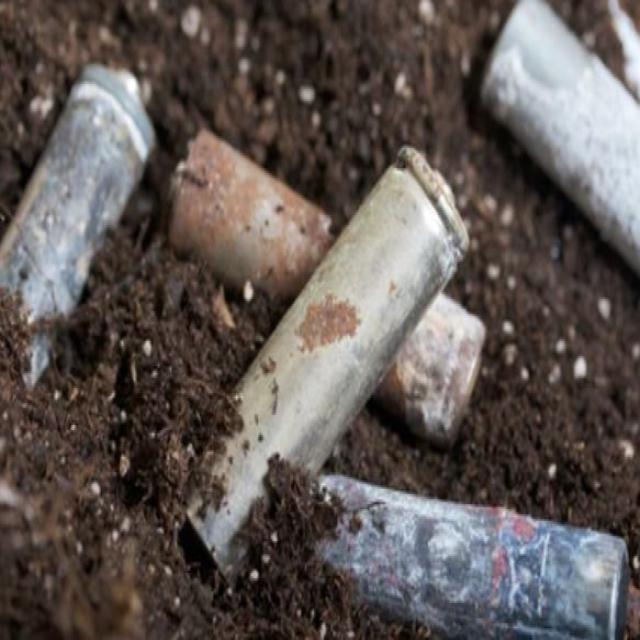electronic: (168, 69, 491, 610)
